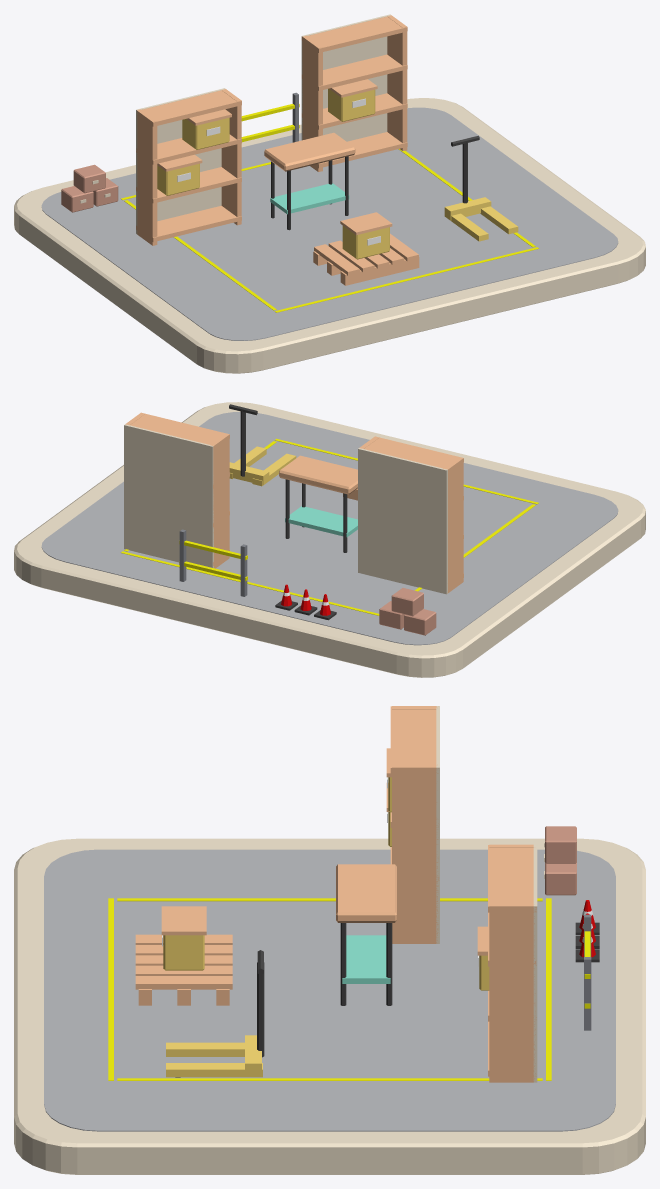
Rendered from room.fbx.
3 views of the same model, one above another, from view 1: azimuth 30°, elevation 25°; view 2: azimuth 150°, elevation 25°; view 3: azimuth 270°, elevation 25° (orthographic). The views are drawn at different scales.
Parts seen in each view (by area): view 1: COM-02 Floor Surface, COM-01 Rounded Base Direct, Back.001, Back, Side, Worktop, Side.002, Side.003, Shelf.003, Shelf.007, Side.001, Shelf (+17 smaller); view 2: COM-02 Floor Surface, COM-01 Rounded Base Direct, Back, Back.001, Worktop, Side.002, Side, Shelf.003, Shelf.007, Lower shelf, Stacked case.002, Stacked case (+5 smaller); view 3: COM-02 Floor Surface, COM-01 Rounded Base Direct, Side.003, Side.001, Worktop, Shelf.003, Shelf.007, Lower shelf, Box.003, Lid.003, Deck board.004, Fork.001 (+11 smaller).
Boxes of the visible parts, x1,y1,x2,y2 form: COM-02 Floor Surface: (41, 107, 618, 340); COM-01 Rounded Base Direct: (14, 98, 645, 373); Back.001: (301, 14, 390, 141); Back: (136, 88, 225, 234); Side: (137, 109, 157, 245); Worktop: (264, 132, 355, 171); Side.002: (302, 35, 322, 171); Side.003: (387, 15, 407, 150); Shelf.003: (137, 90, 241, 126); Shelf.007: (301, 16, 407, 52); Side.001: (221, 89, 241, 225); Shelf: (136, 205, 241, 242); COM-02 Floor Surface: (41, 412, 618, 645); COM-01 Rounded Base Direct: (14, 402, 645, 677); Back: (358, 448, 447, 594); Back.001: (124, 424, 213, 567); Worktop: (279, 455, 357, 494); Side.002: (210, 433, 229, 568); Side: (443, 457, 463, 593); Shelf.003: (364, 436, 463, 473); Shelf.007: (130, 412, 229, 446); Lower shelf: (285, 506, 357, 537); Stacked case.002: (391, 588, 423, 616); Stacked case: (404, 609, 436, 635); COM-02 Floor Surface: (44, 849, 615, 1131); COM-01 Rounded Base Direct: (14, 838, 645, 1174); Side.003: (489, 903, 535, 1082); Side.001: (392, 764, 438, 943); Worktop: (336, 864, 396, 922); Shelf.003: (390, 706, 438, 773); Shelf.007: (488, 845, 536, 912); Lower shelf: (342, 935, 390, 983); Box.003: (163, 935, 204, 970); Lid.003: (161, 906, 206, 935); Deck board.004: (135, 976, 232, 989); Fork.001: (166, 1063, 262, 1077).
Bounding box in the file's own units: 600 × 190 × 520.
